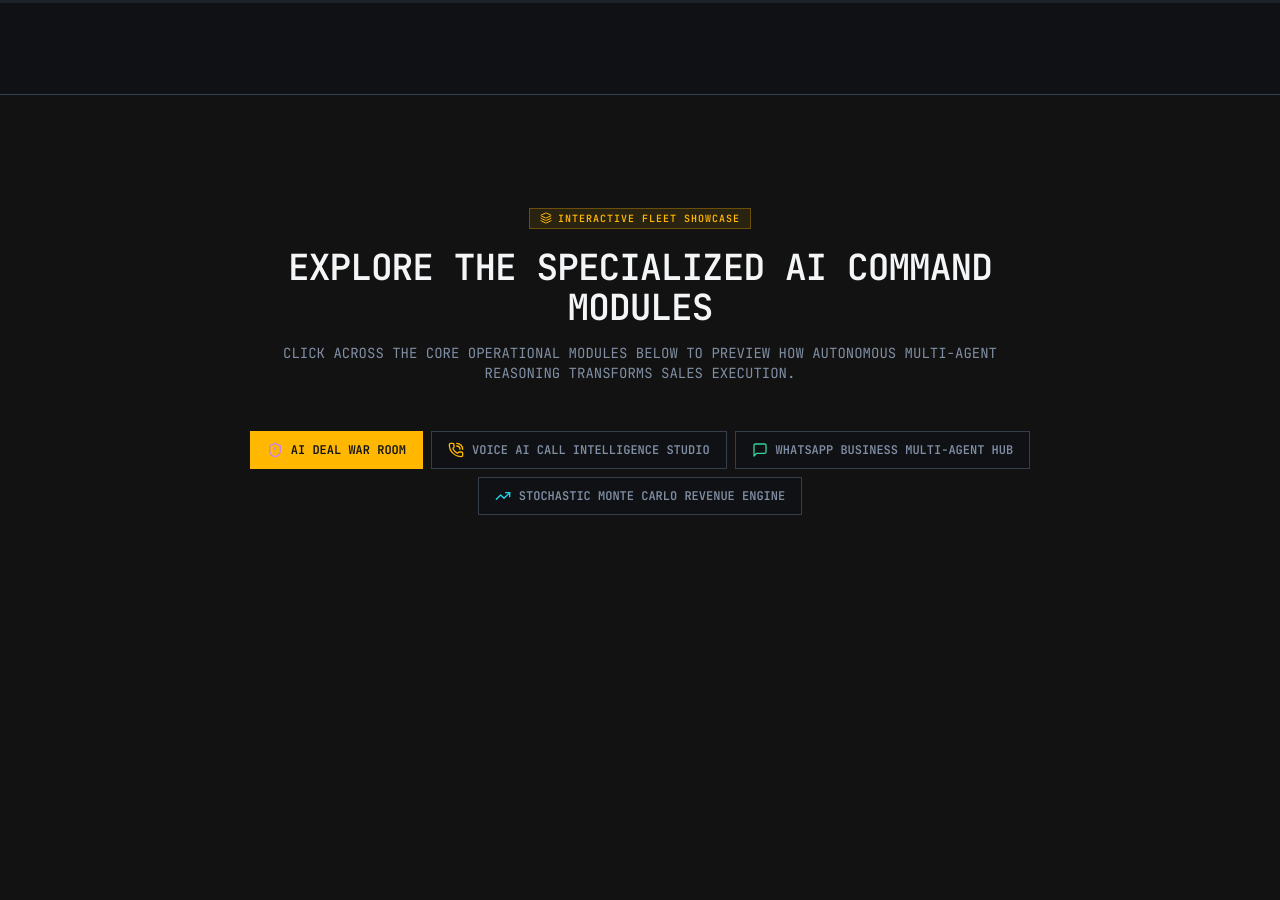
Test: SaaS Landing Page Feature Suite › renders ProductShowcase and switches interactive tabs when clicked
(page scrolled)
Expected: the heading "Explore the Specialized AI Command Modules" is shown, [256,247,1024,327]
Step 1. Click the button "Voice AI Call Intelligence Studio" → {"x": 579, "y": 450}, box [431,431,727,469]
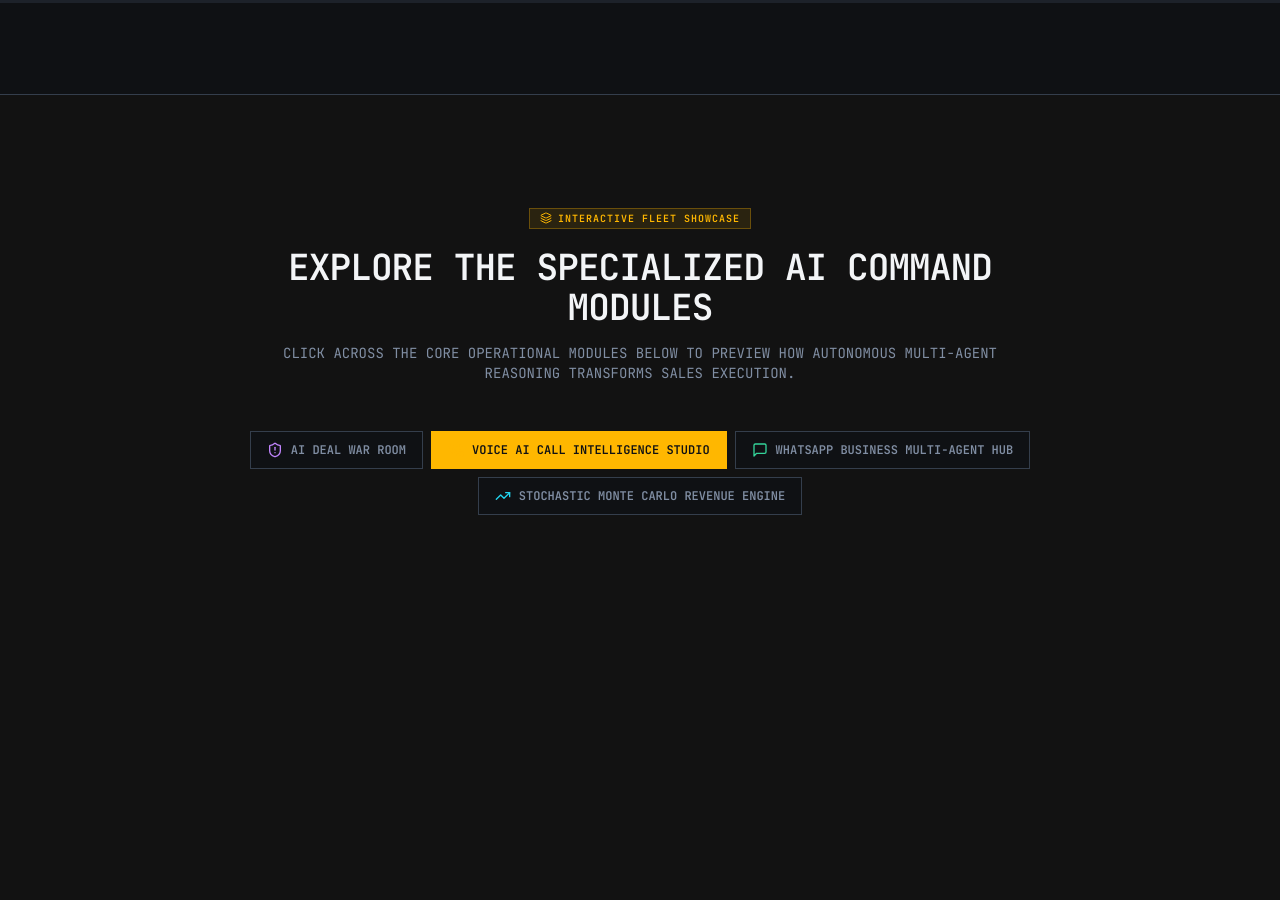
Step 2. Click the button "WhatsApp Business Multi-Agent Hub" → {"x": 882, "y": 450}, box [735,431,1030,469]
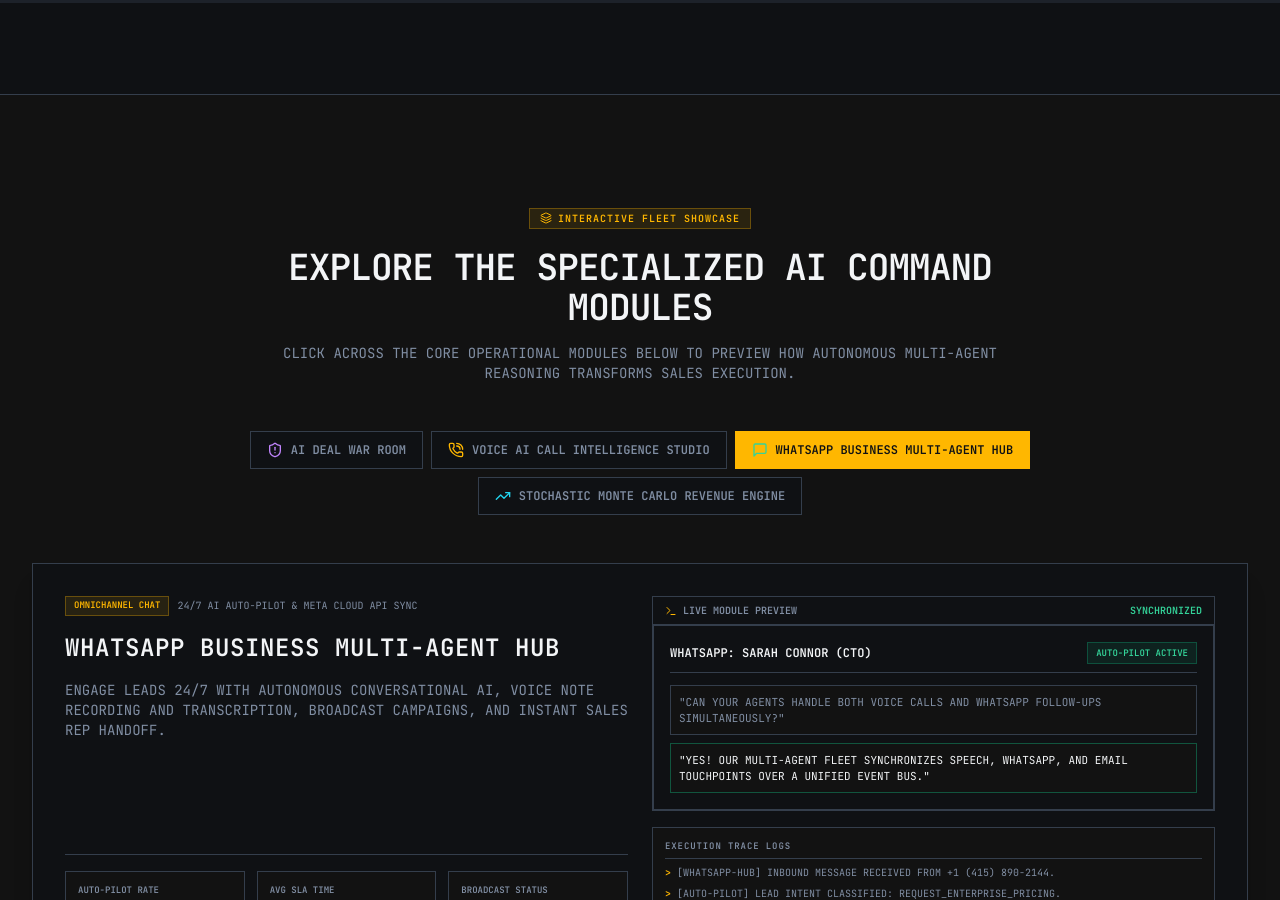
Result: the text "AUTO-PILOT ACTIVE" is shown at [1087,642,1197,664]
